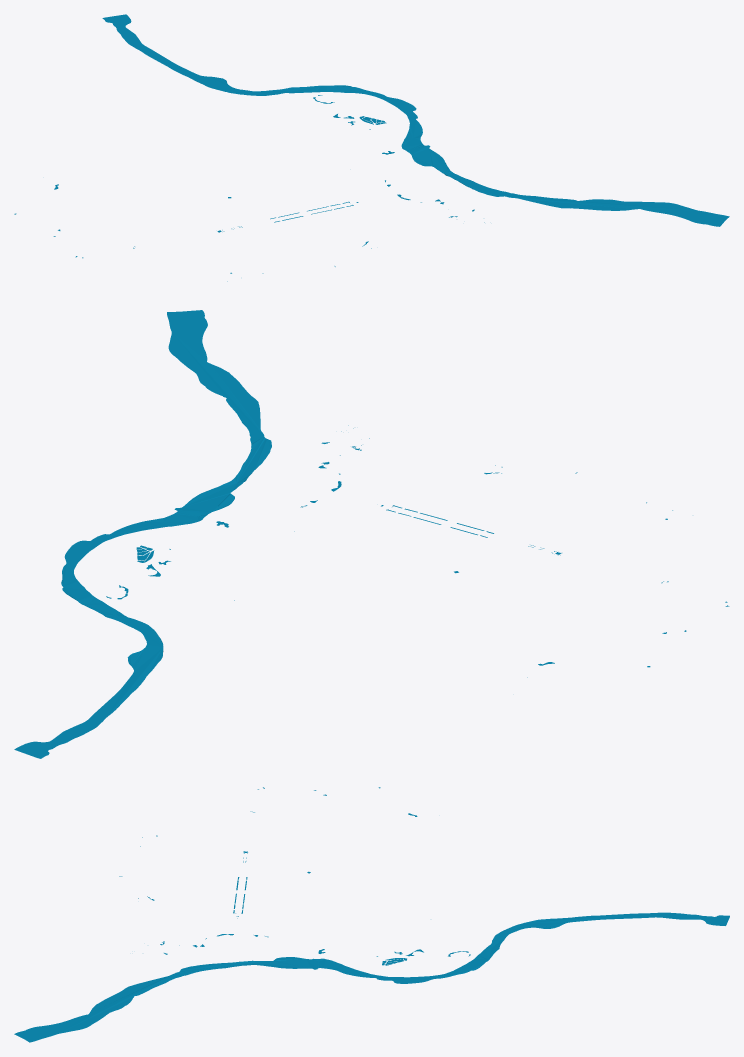
Rendered from water.glb.
3 renders of one model, top to bottom at view 1: azimuth 30°, elevation 25°; view 2: azimuth 150°, elevation 25°; view 3: azimuth 270°, elevation 25°, orthographic. The views are drawn at different scales.
Visible parts, largest first — view 1: water; view 2: water; view 3: water.
Boxes of the visible parts, x1,y1,x2,y2 form: water: [14, 14, 729, 281]; water: [14, 310, 729, 758]; water: [14, 787, 729, 1042].
Bounding box in the file's own units: 13046 × 60.67 × 15530.
